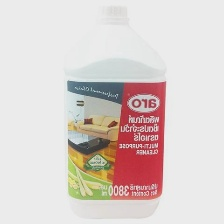cleaning_solution: (62, 3, 168, 220)
